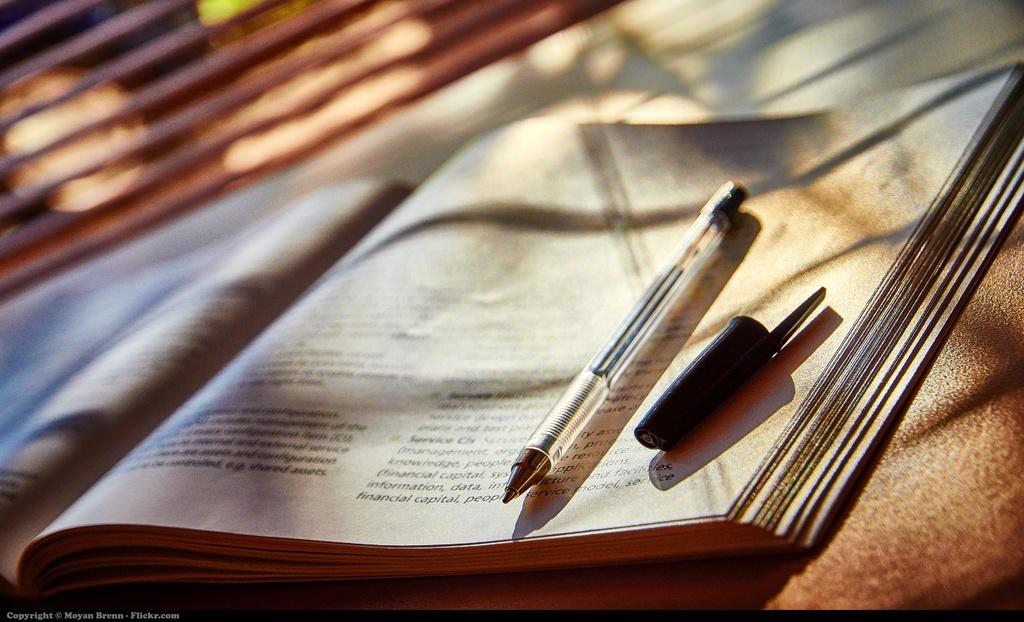pen: (505, 176, 831, 505)
